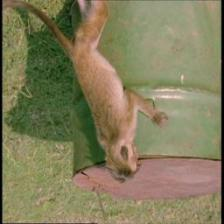monkey: (108, 131, 144, 188)
